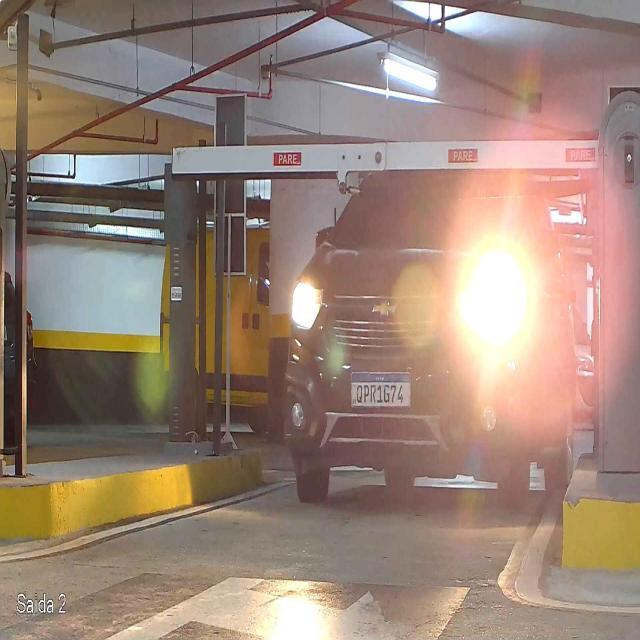mercosul_plate: (349, 369, 413, 410)
